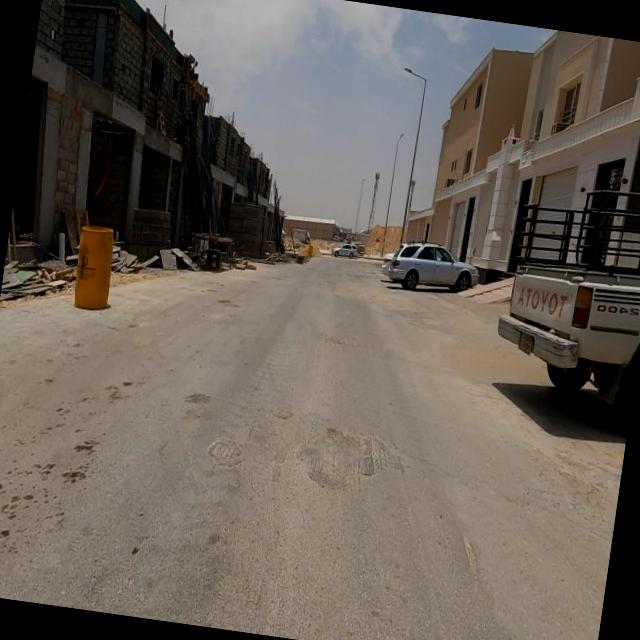debris: (0, 210, 98, 341), (85, 210, 168, 306), (138, 211, 210, 312)
